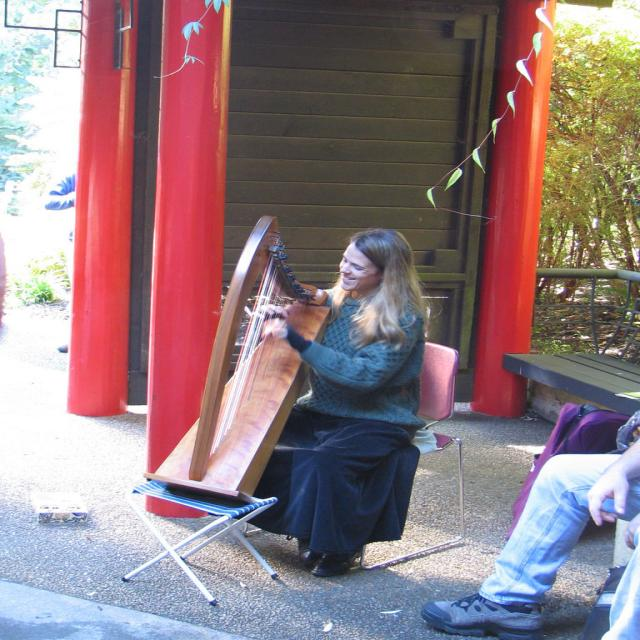harp: (144, 215, 333, 501)
